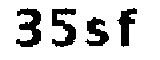3: (10, 5, 43, 52)
5: (45, 5, 81, 51)
f: (115, 6, 143, 49)
s: (85, 16, 113, 48)
